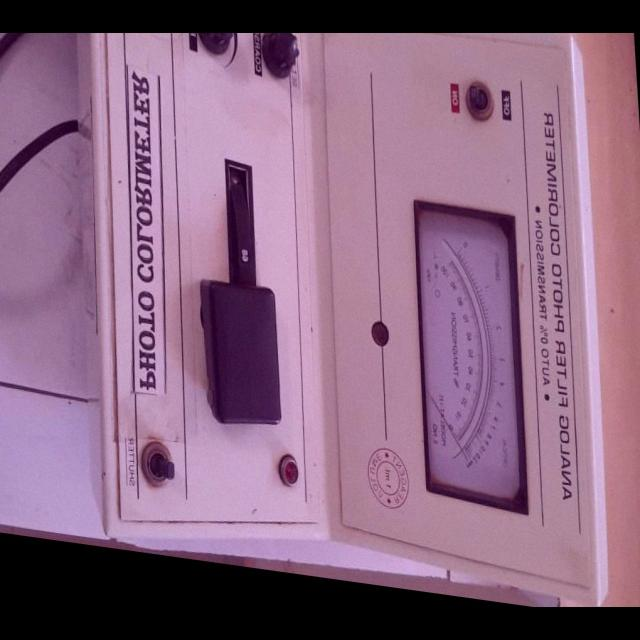Photocolorimeter: (58, 33, 617, 607)
